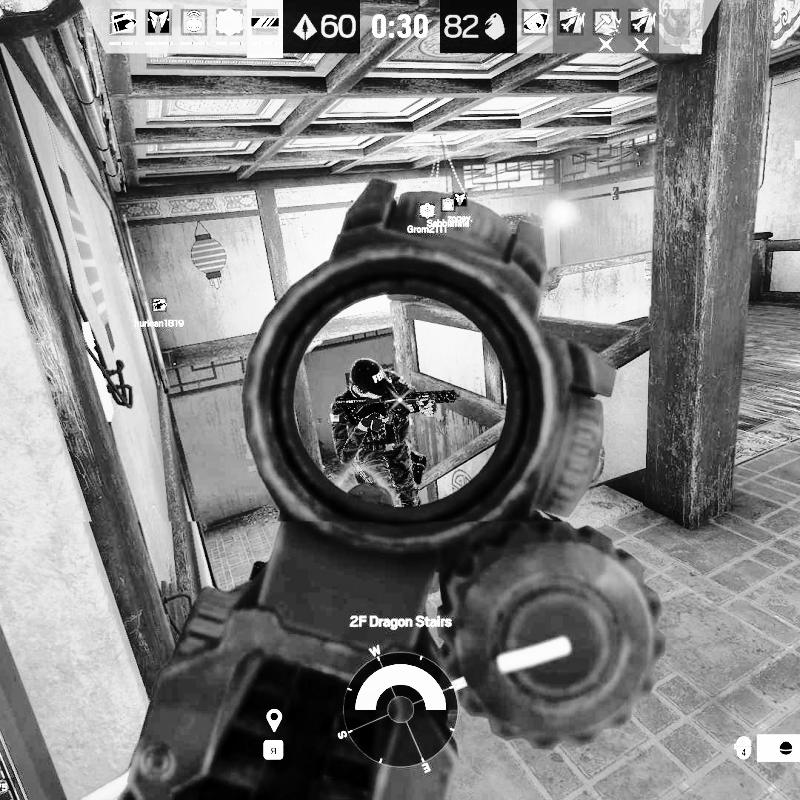Character: (326, 358, 467, 512)
Friend_label: (135, 295, 185, 331), (407, 195, 450, 235), (427, 196, 470, 229), (446, 190, 475, 222)
Head: (350, 358, 386, 397)
